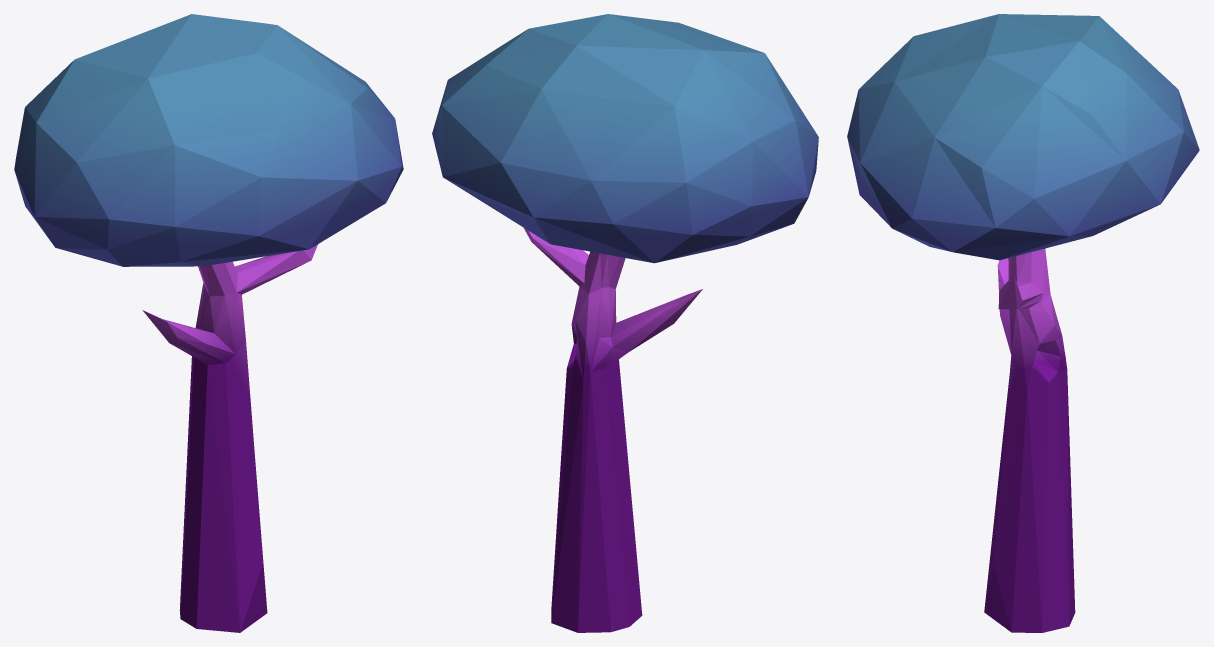
The model's file is tree_1.fbx.
The picture shows the model from 3 angles, left to right: view 1: azimuth 30°, elevation 25°; view 2: azimuth 150°, elevation 25°; view 3: azimuth 270°, elevation 25°; orthographic projection. The views are drawn at different scales.
Parts seen in each view (by area): view 1: tree_1; view 2: tree_1; view 3: tree_1.
Part boxes in pixels (<box>): tree_1: <box>14,14,403,632</box>; tree_1: <box>432,14,818,632</box>; tree_1: <box>847,14,1199,632</box>.
Size of the model in its own units: 141 by 222 by 124.
